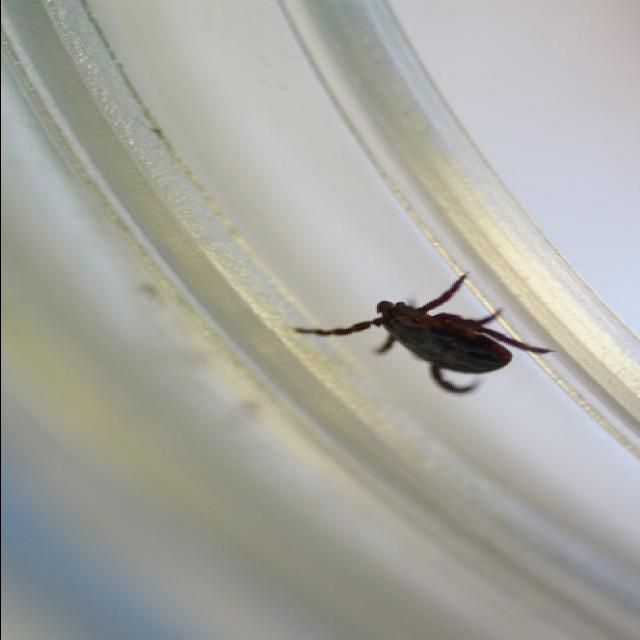Dermacentor Reticulatus-M: (295, 273, 549, 393)
